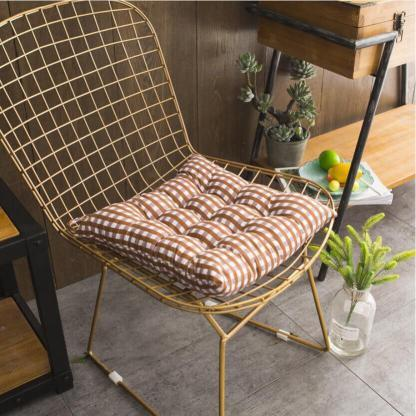chair: (0, 0, 350, 416)
table: (245, 0, 416, 283), (0, 182, 77, 416)
